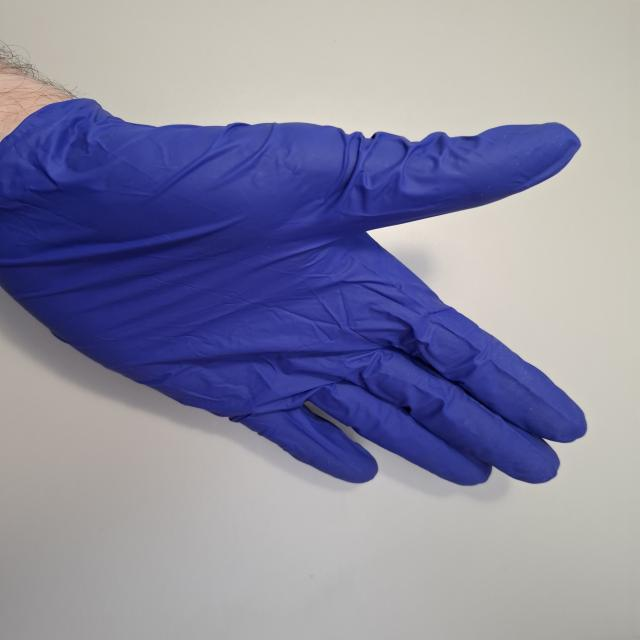glove_on: (0, 92, 593, 489)
